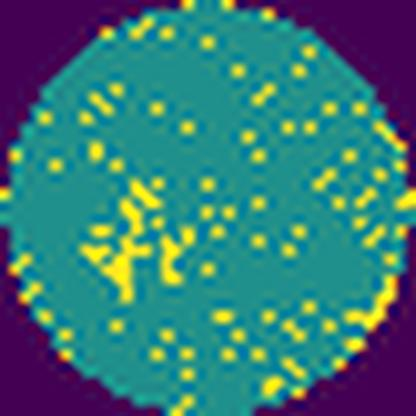Edge-Loc: (73, 194, 154, 302), (156, 236, 186, 290), (125, 176, 167, 212)
